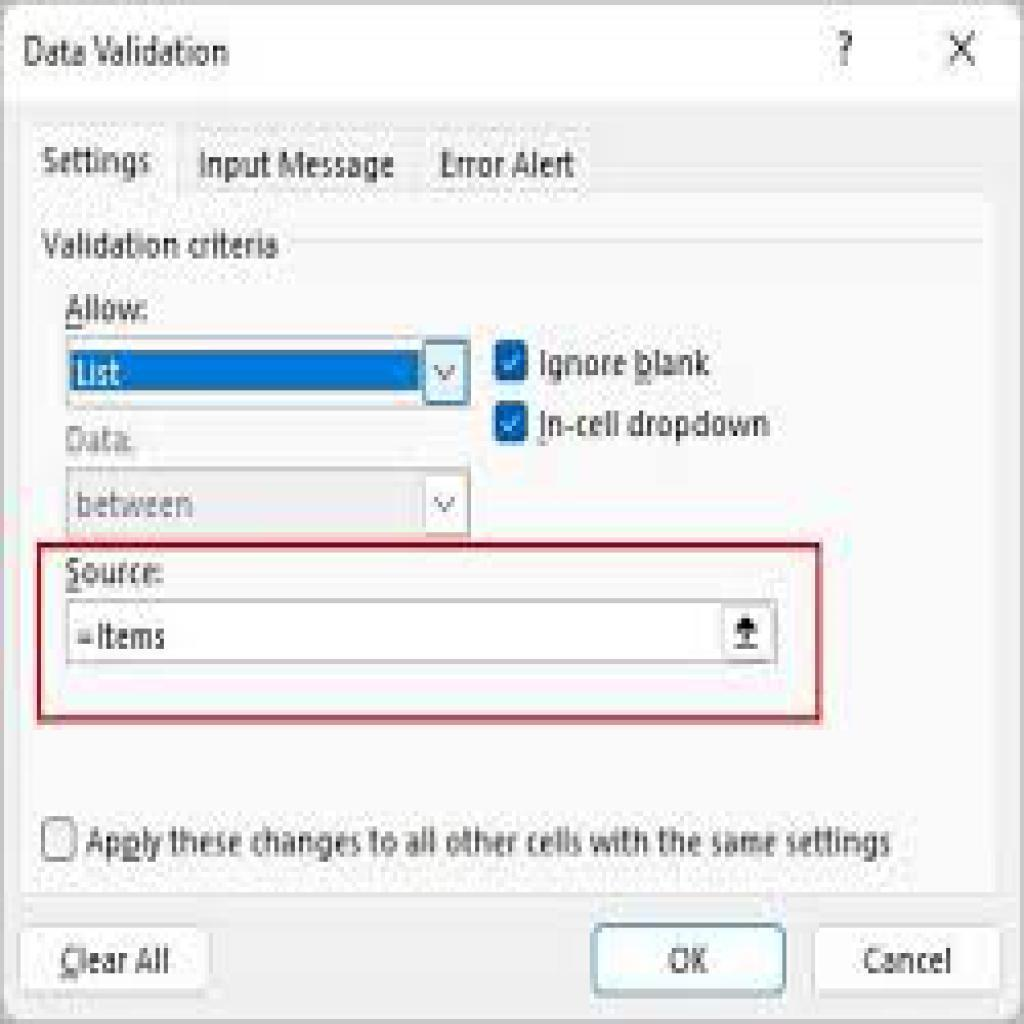button: (19, 921, 211, 995), (595, 926, 788, 992), (819, 926, 998, 991)
checkbox: (492, 401, 530, 447), (493, 343, 533, 382), (46, 822, 77, 859)
dropdown: (73, 466, 476, 543), (70, 340, 475, 402)
input: (69, 600, 718, 661)
